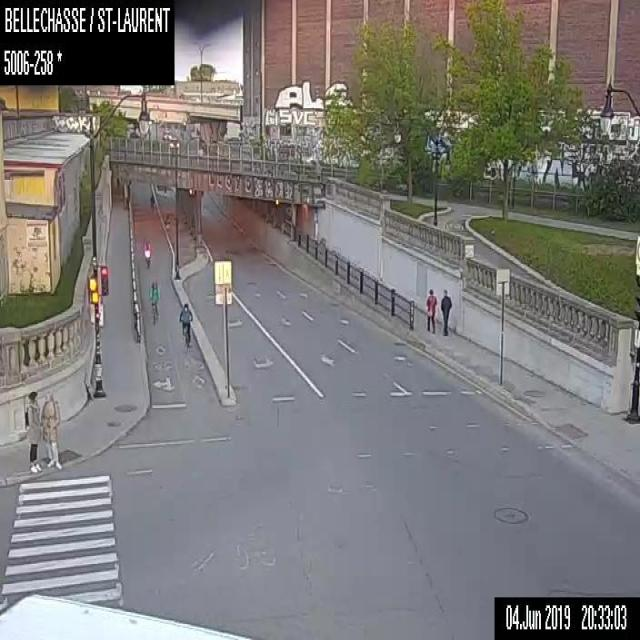cyclist: (178, 303, 192, 348), (147, 276, 159, 323), (143, 238, 152, 268)
pedestrian: (41, 390, 62, 470), (24, 389, 40, 475), (440, 288, 451, 335), (425, 287, 436, 333), (149, 192, 154, 212)
vehicle: (0, 590, 251, 638)
